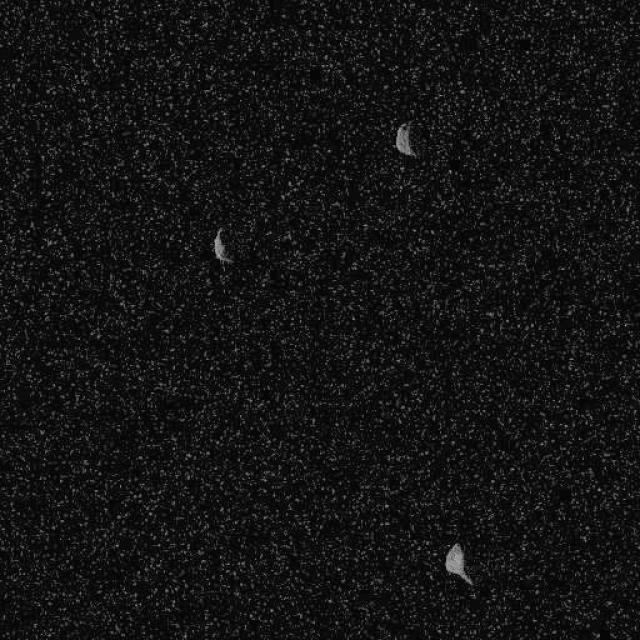D2: (442, 542, 473, 586), (393, 121, 418, 158), (211, 226, 234, 265)
